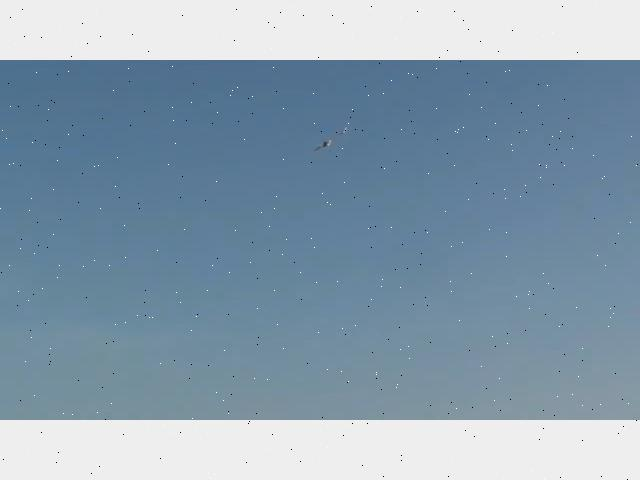Anti-Drone: (314, 128, 346, 152)
